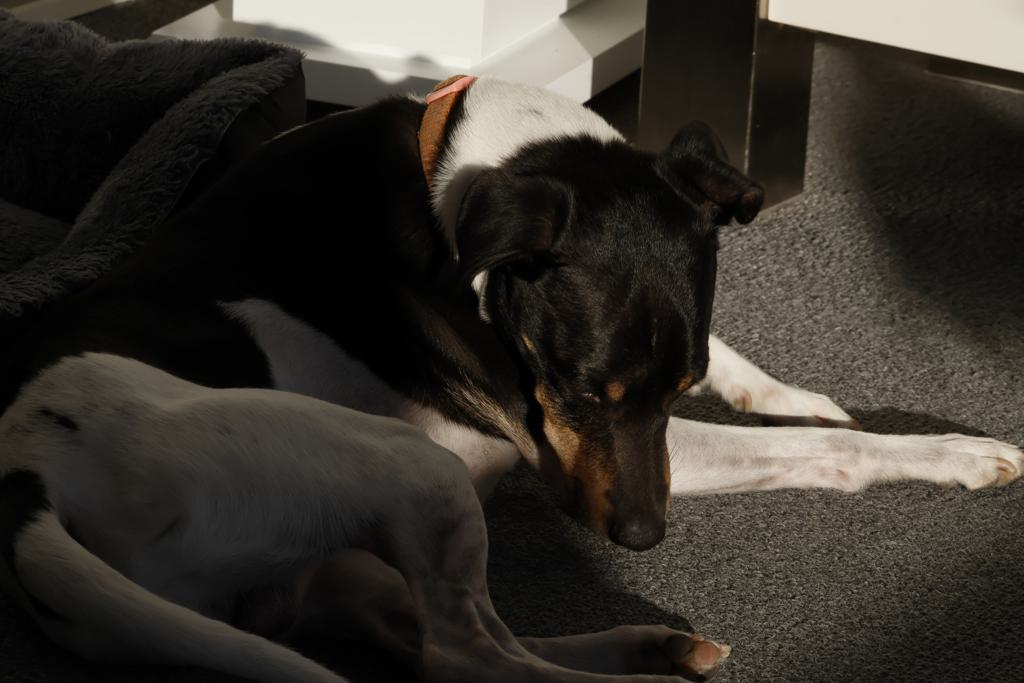Dog: (0, 67, 1024, 683)
